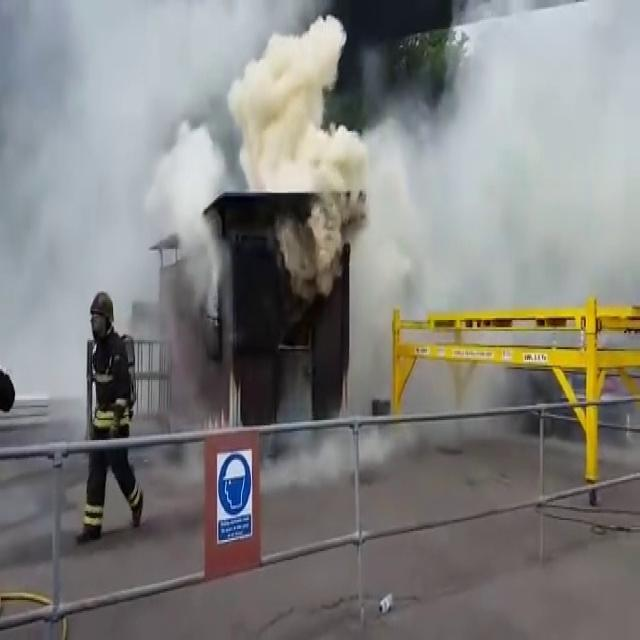Smoke: (384, 43, 640, 305), (212, 62, 371, 302), (12, 0, 144, 206)
